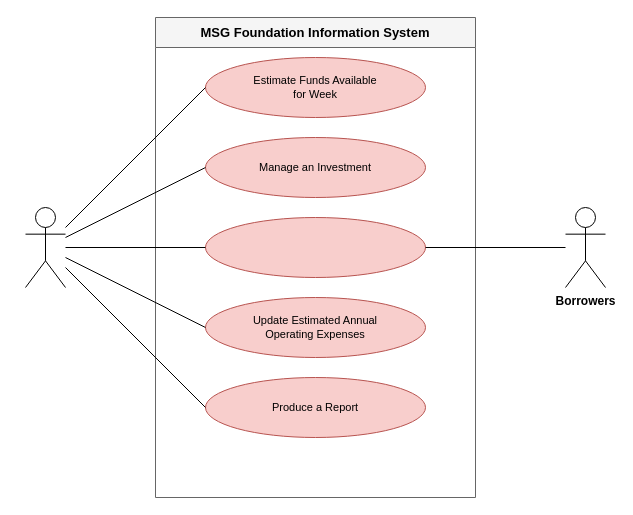
Image size: 633x515. Some labels were removed from this diagram. Here are the shapes that lost their labels. From the top down, the centre of each, then its label:
At [45,247]: "MSG Staff Member".
At [315,247]: "Manage a Mortgage".
